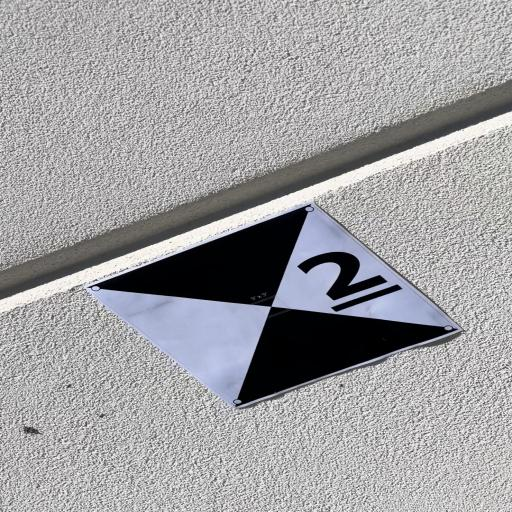target2: (79, 199, 465, 409)
